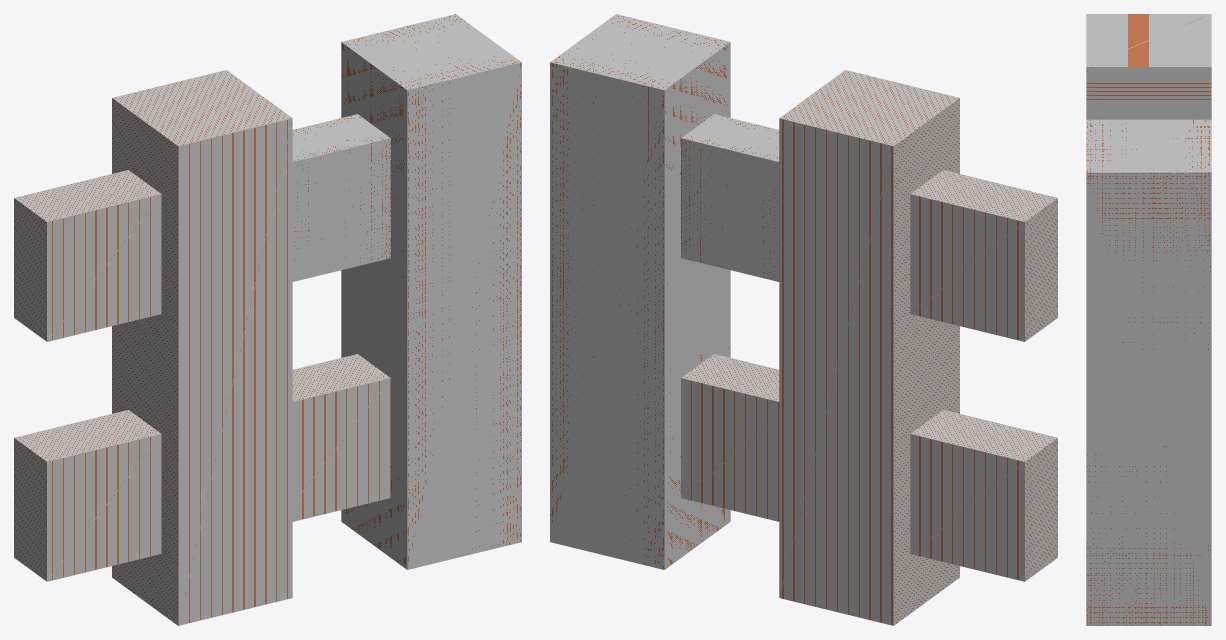
Rendered from wood-fence.fbx.
The picture shows the model from 3 angles, left to right: view 1: azimuth 30°, elevation 25°; view 2: azimuth 150°, elevation 25°; view 3: azimuth 270°, elevation 25°; orthographic projection. The views are drawn at different scales.
Parts seen in each view (by area): view 1: generated; view 2: generated; view 3: generated.
Part boxes in pixels (<box>): generated: <box>14,14,521,625</box>; generated: <box>550,14,1057,625</box>; generated: <box>1086,14,1211,625</box>.
Size of the model in its own units: 80 by 80 by 20.
Materials: 1 (1 with a texture image).
